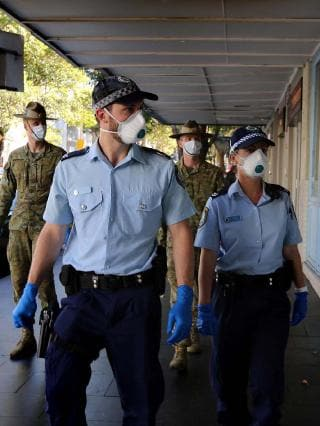Person: (45, 76, 177, 424), (205, 124, 307, 426), (1, 102, 55, 216), (169, 115, 225, 178)
